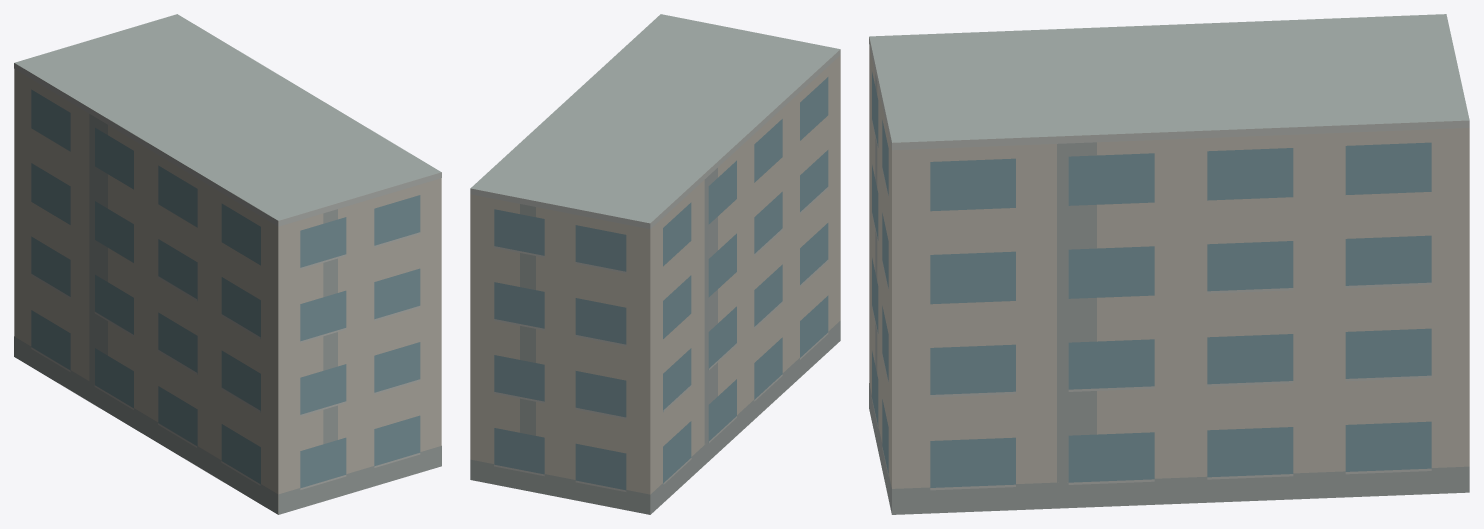
The model's file is residential-cf76ab80-4c9a-4efa-8004-2293be5fe830.glb.
The picture shows the model from 3 angles, left to right: view 1: azimuth 30°, elevation 25°; view 2: azimuth 150°, elevation 25°; view 3: azimuth 270°, elevation 25°; orthographic projection. The views are drawn at different scales.
Parts seen in each view (by area): view 1: residential-cf76ab80-4c9a-4efa-8004-2293be5fe830.tmp; view 2: residential-cf76ab80-4c9a-4efa-8004-2293be5fe830.tmp; view 3: residential-cf76ab80-4c9a-4efa-8004-2293be5fe830.tmp.
Part boxes in pixels (left/top/right/bottom): residential-cf76ab80-4c9a-4efa-8004-2293be5fe830.tmp: left=14, top=14, right=441, bottom=514; residential-cf76ab80-4c9a-4efa-8004-2293be5fe830.tmp: left=470, top=14, right=840, bottom=514; residential-cf76ab80-4c9a-4efa-8004-2293be5fe830.tmp: left=869, top=14, right=1469, bottom=514.
Size of the model in its own units: 9.07 by 12.2 by 17.86.
